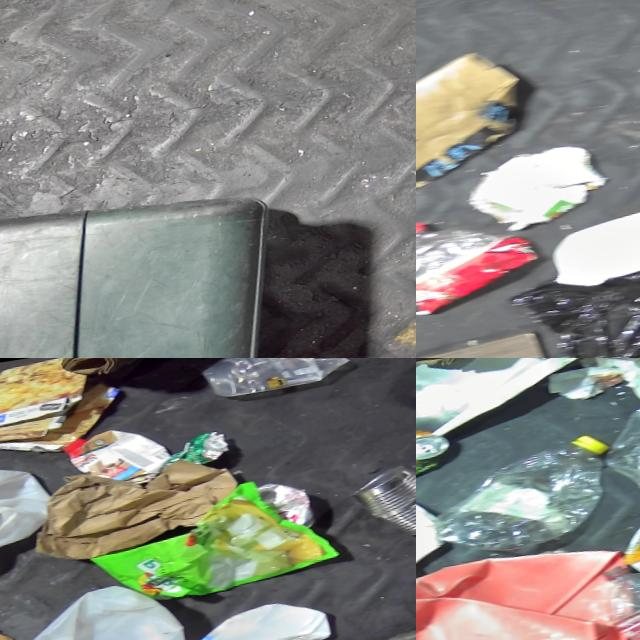can: (466, 137, 619, 235), (345, 456, 416, 546), (159, 429, 234, 469), (416, 424, 460, 490)
milk_jug: (0, 574, 202, 640), (0, 442, 71, 614), (549, 189, 640, 291), (59, 420, 177, 494), (172, 594, 343, 640), (416, 463, 461, 592)
non_white_jug: (416, 532, 640, 640)
plastic_bottle: (420, 428, 627, 562), (416, 202, 555, 320), (592, 545, 640, 640)
